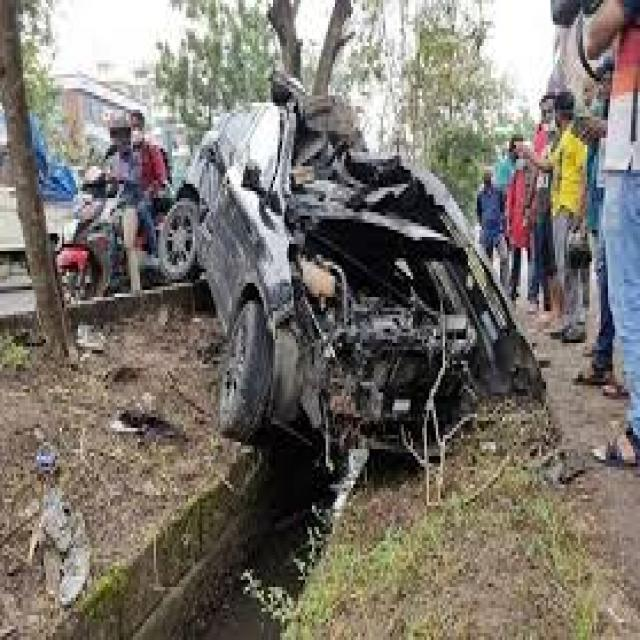accident: (180, 105, 511, 486)
